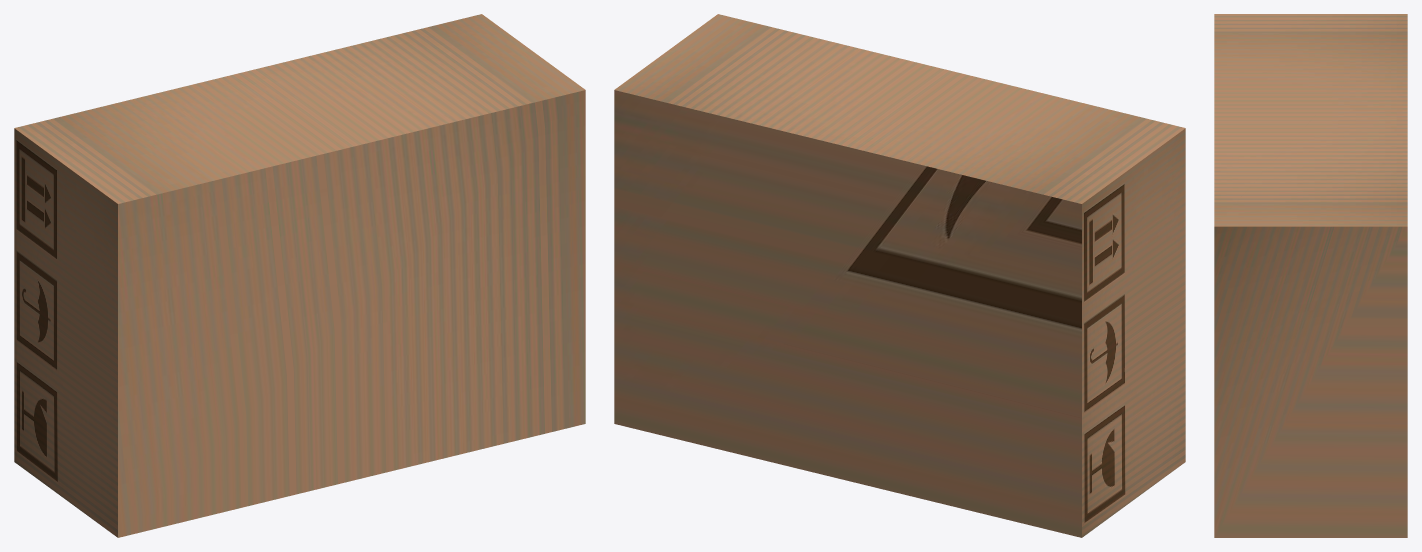
The model's file is warehouse_box_1.glb.
3 renders of one model, left to right at view 1: azimuth 30°, elevation 25°; view 2: azimuth 150°, elevation 25°; view 3: azimuth 270°, elevation 25°, orthographic. The views are drawn at different scales.
Visible parts, largest first — view 1: Cube.004; view 2: Cube.004; view 3: Cube.004.
Part boxes in pixels (box(x1,y1,x2,y2)): Cube.004: box(14, 14, 585, 537); Cube.004: box(614, 14, 1185, 537); Cube.004: box(1214, 14, 1407, 537).
Bounding box in the file's own units: 0.7263 × 0.4955 × 0.2793.
Materials: 1 (1 with a texture image).
